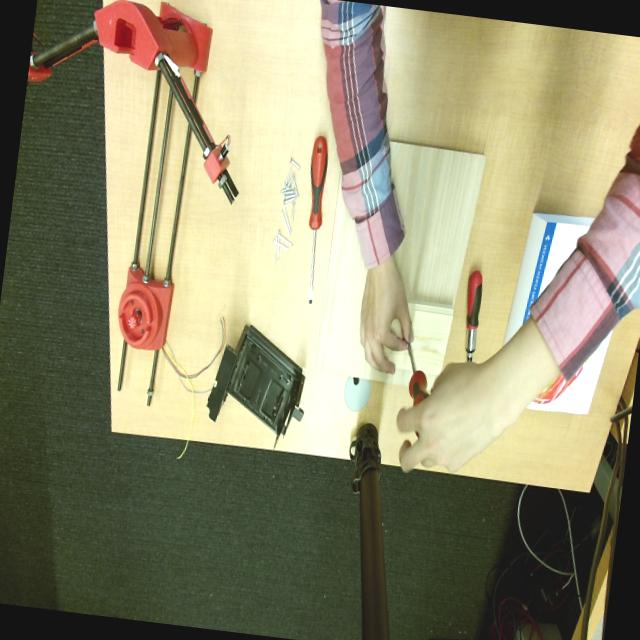screwdriver: (308, 136, 327, 302), (465, 270, 482, 360), (407, 342, 428, 405)
